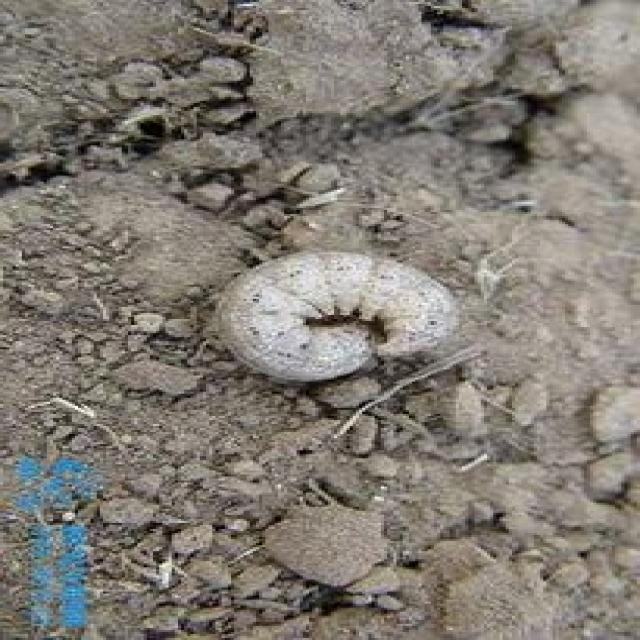black cutworm: (216, 251, 460, 389)
